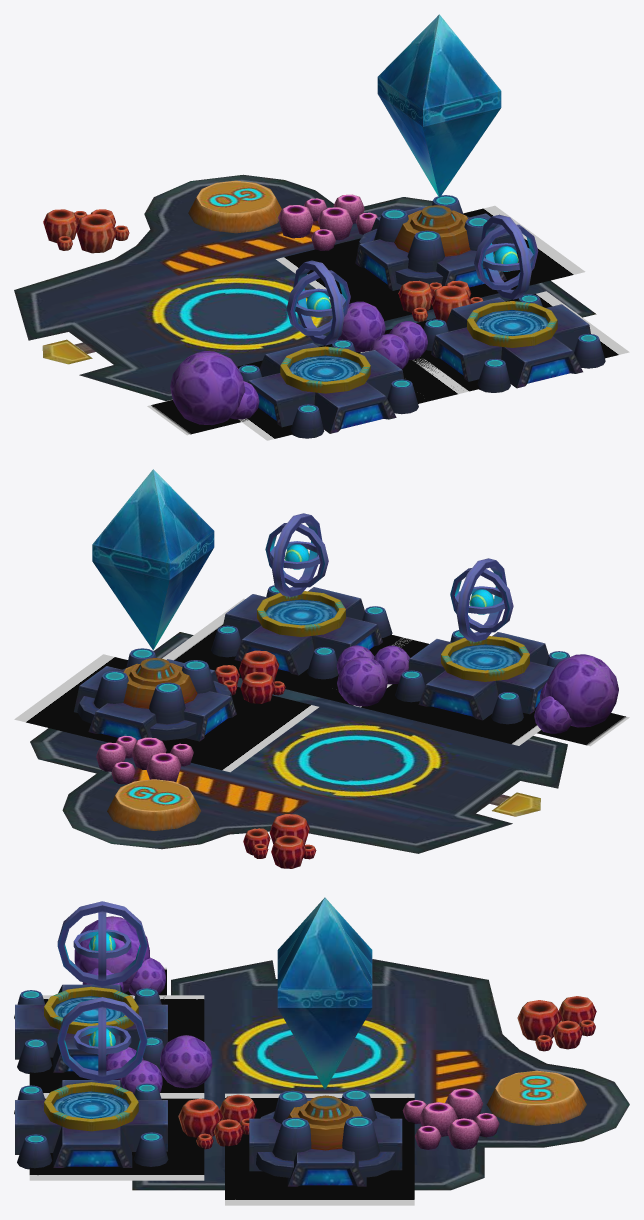
The model's file is JJC_startK_A.glb.
3 views of the same model, one above another, from view 1: azimuth 30°, elevation 25°; view 2: azimuth 150°, elevation 25°; view 3: azimuth 270°, elevation 25° (orthographic). The views are drawn at different scales.
Visible parts, largest first — view 1: GB, senceX_A_zuanshiA, senceX_A_dizuoA, senceX_A_dizuoA (1), senceX_A_dizuoB, shadows_A (7), senceX_qiu (5), go, senceX_A_zuanshiC (2), senceX_A_zuanshiC (1), propsC_planE, propsC_planF (1) (+9 smaller); view 2: GB, senceX_A_zuanshiA, senceX_A_dizuoB, senceX_A_dizuoA (1), senceX_A_dizuoA, shadows_A (7), senceX_qiu (5), go, shadows_A (8), senceX_A_zuanshiC (1), senceX_A_zuanshiC (2), shadows_A (9) (+8 smaller); view 3: GB, senceX_A_dizuoA, senceX_A_dizuoB, senceX_A_zuanshiA, senceX_A_dizuoA (1), shadows_A (7), shadows_A (8), go, senceX_A_zuanshiC (1), senceX_A_zuanshiC (2), propsC_planE, propsC_planF (1) (+7 smaller).
Boxes of the visible parts, left/top/right/bottom form: GB: left=14, top=174, right=596, bottom=400; senceX_A_zuanshiA: left=377, top=14, right=501, bottom=197; senceX_A_dizuoA: left=423, top=294, right=605, bottom=392; senceX_A_dizuoA (1): left=239, top=339, right=418, bottom=438; senceX_A_dizuoB: left=355, top=195, right=516, bottom=290; shadows_A (7): left=276, top=205, right=585, bottom=320; senceX_qiu (5): left=170, top=351, right=245, bottom=425; go: left=188, top=180, right=281, bottom=233; senceX_A_zuanshiC (2): left=474, top=214, right=538, bottom=299; senceX_A_zuanshiC (1): left=286, top=260, right=350, bottom=345; propsC_planE: left=278, top=194, right=377, bottom=250; propsC_planF (1): left=43, top=209, right=129, bottom=253; GB: left=30, top=632, right=567, bottom=853; senceX_A_zuanshiA: left=92, top=469, right=214, bottom=650; senceX_A_dizuoB: left=74, top=648, right=236, bottom=741; senceX_A_dizuoA (1): left=395, top=630, right=569, bottom=724; senceX_A_dizuoA: left=211, top=585, right=392, bottom=679; shadows_A (7): left=14, top=654, right=318, bottom=772; senceX_qiu (5): left=545, top=654, right=618, bottom=727; go: left=107, top=779, right=201, bottom=830; shadows_A (8): left=162, top=598, right=428, bottom=707; senceX_A_zuanshiC (1): left=450, top=558, right=513, bottom=642; senceX_A_zuanshiC (2): left=265, top=513, right=328, bottom=596; shadows_A (9): left=361, top=637, right=540, bottom=745; GB: left=132, top=959, right=629, bottom=1190; senceX_A_dizuoA: left=14, top=1080, right=168, bottom=1169; senceX_A_dizuoB: left=249, top=1089, right=402, bottom=1186; senceX_A_zuanshiA: left=277, top=897, right=372, bottom=1089; senceX_A_dizuoA (1): left=14, top=984, right=167, bottom=1073; shadows_A (7): left=225, top=1093, right=414, bottom=1205; shadows_A (8): left=29, top=1098, right=204, bottom=1180; go: left=486, top=1070, right=586, bottom=1125; senceX_A_zuanshiC (1): left=57, top=901, right=147, bottom=986; senceX_A_zuanshiC (2): left=57, top=997, right=147, bottom=1082; propsC_planE: left=402, top=1088, right=499, bottom=1149; propsC_planF (1): left=517, top=996, right=596, bottom=1051.
Size of the model in its own units: 22.83 by 11.2 by 23.61.
Materials: 4 (4 with a texture image).
